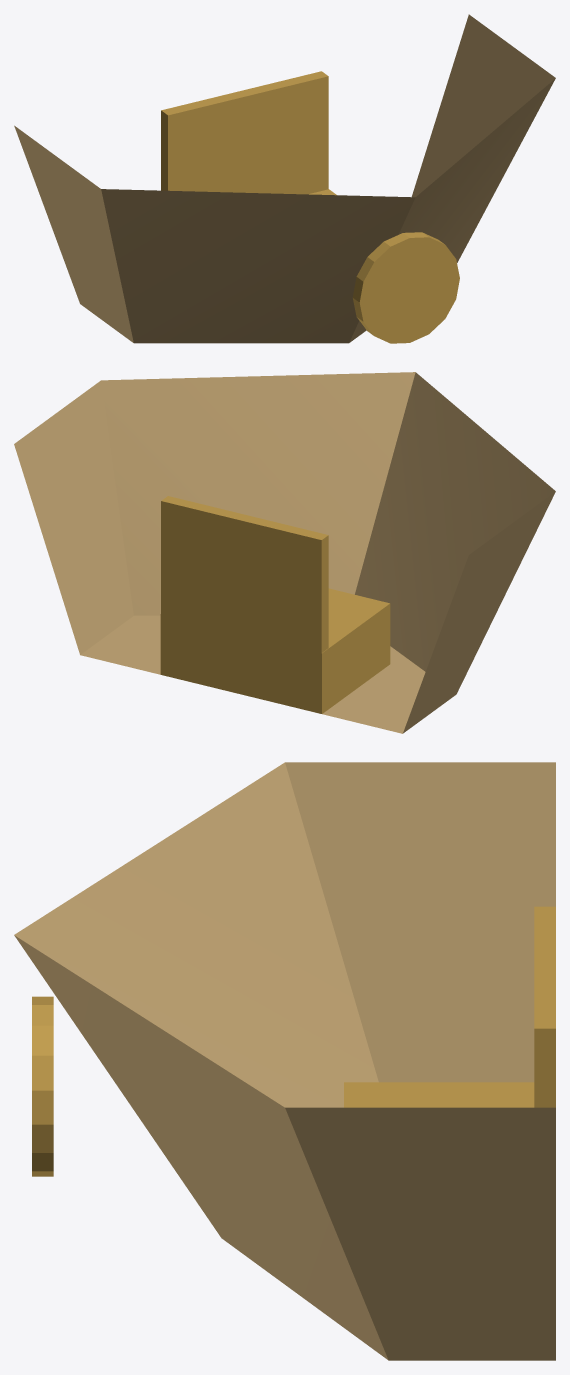
File: lampWall.glb
The picture shows the model from 3 angles, top to bottom: view 1: azimuth 30°, elevation 25°; view 2: azimuth 150°, elevation 25°; view 3: azimuth 270°, elevation 25°; orthographic projection. The views are drawn at different scales.
Parts seen in each view (by area): view 1: lampWall(Clone); view 2: lampWall(Clone); view 3: lampWall(Clone).
Part boxes in pixels (x1,y1,x2,y2): lampWall(Clone): (14, 14, 555, 343); lampWall(Clone): (14, 372, 555, 733); lampWall(Clone): (14, 762, 555, 1360).
Bounding box in the file's own units: 0.2266 × 0.0928 × 0.1503.
